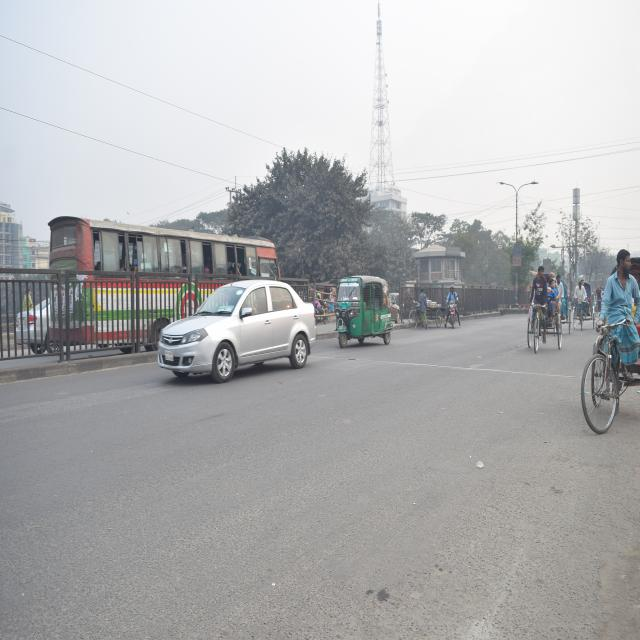car: (136, 273, 336, 400)
